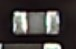COMP: (8, 6, 65, 38)
GAP: (13, 23, 62, 49)
